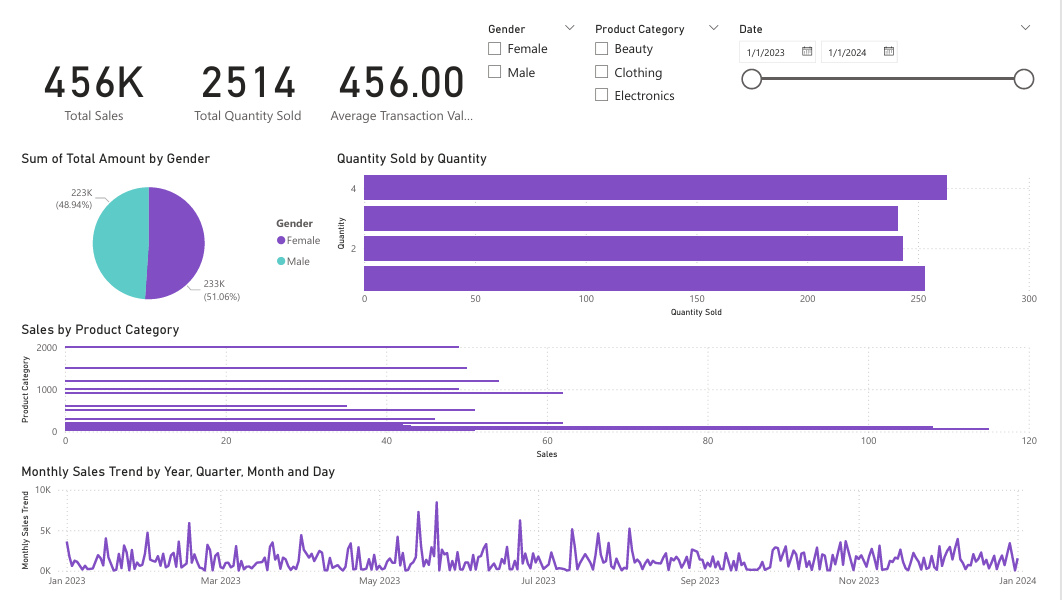

The page's visual inventory and layout, read from the dashboard file:
{"tool":"powerbi","page":{"name":"Page 1","canvas":[1280,720],"ordinal":0},"visuals":[{"type":"card","fields":{"Values":["Sum(cleaned_retail_sales_dataset.Total Amount)"]},"box":[0,0,192.3,164.5],"z":0},{"type":"card","fields":{"Values":["Sum(cleaned_retail_sales_dataset.Quantity)"]},"box":[192.3,0,192.3,164.5],"z":1000},{"type":"card","fields":{"Values":["Avg(cleaned_retail_sales_dataset.Total Amount)"]},"box":[384.6,0,192.3,164.5],"z":2000},{"type":"lineChart","fields":{"Category":["cleaned_retail_sales_dataset.Date.Variation.Date Hierarchy.Year","cleaned_retail_sales_dataset.Date.Variation.Date Hierarchy.Quarter","cleaned_retail_sales_dataset.Date.Variation.Date Hierarchy.Month","cleaned_retail_sales_dataset.Date.Variation.Date Hierarchy.Day"],"Y":["Sum(cleaned_retail_sales_dataset.Total Amount)"]},"box":[0,555.6,1280,164.5],"z":3000},{"type":"barChart","fields":{"Category":["cleaned_retail_sales_dataset.Total Amount"],"Y":["CountNonNull(cleaned_retail_sales_dataset.Product Category)"]},"box":[0,377.5,1280,177.5],"z":4000},{"type":"barChart","fields":{"Y":["CountNonNull(cleaned_retail_sales_dataset.Product Category)"],"Category":["cleaned_retail_sales_dataset.Quantity"]},"box":[395.3,164.5,884.7,213.7],"z":5000},{"type":"pieChart","fields":{"Category":["cleaned_retail_sales_dataset.Gender"],"Y":["Sum(cleaned_retail_sales_dataset.Total Amount)"]},"box":[0,164.5,395.3,213.7],"z":6000},{"type":"slicer","fields":{"Values":["cleaned_retail_sales_dataset.Product Category"]},"box":[710,0,180,164],"z":7000},{"type":"slicer","fields":{"Values":["cleaned_retail_sales_dataset.Date"]},"box":[890,0,390,164],"z":8000},{"type":"slicer","fields":{"Values":["cleaned_retail_sales_dataset.Gender"]},"box":[576,0,134,164],"z":9000}]}

Visuals, with their boxes in screenshot pixels (x1, y1, x2, y2), scaled from the page's 1280x720 canvas onto the 1062x600 screenshot:
card - Sum(cleaned_retail_sales_dataset.Total Amount): (x1=0, y1=0, x2=160, y2=137)
card - Sum(cleaned_retail_sales_dataset.Quantity): (x1=160, y1=0, x2=319, y2=137)
card - Avg(cleaned_retail_sales_dataset.Total Amount): (x1=319, y1=0, x2=479, y2=137)
lineChart - cleaned_retail_sales_dataset.Date.Variation.Date Hierarchy.Year x cleaned_retail_sales_dataset.Date.Variation.Date Hierarchy.Quarter: (x1=0, y1=463, x2=1061, y2=599)
barChart - cleaned_retail_sales_dataset.Total Amount x CountNonNull(cleaned_retail_sales_dataset.Product Category): (x1=0, y1=315, x2=1061, y2=462)
barChart - CountNonNull(cleaned_retail_sales_dataset.Product Category) x cleaned_retail_sales_dataset.Quantity: (x1=328, y1=137, x2=1061, y2=315)
pieChart - cleaned_retail_sales_dataset.Gender x Sum(cleaned_retail_sales_dataset.Total Amount): (x1=0, y1=137, x2=328, y2=315)
slicer - cleaned_retail_sales_dataset.Product Category: (x1=589, y1=0, x2=738, y2=137)
slicer - cleaned_retail_sales_dataset.Date: (x1=738, y1=0, x2=1061, y2=137)
slicer - cleaned_retail_sales_dataset.Gender: (x1=478, y1=0, x2=589, y2=137)
